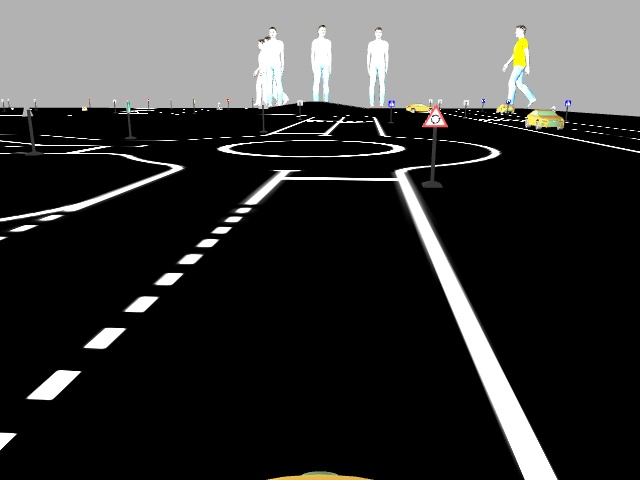Roundabout: (419, 103, 449, 129)
